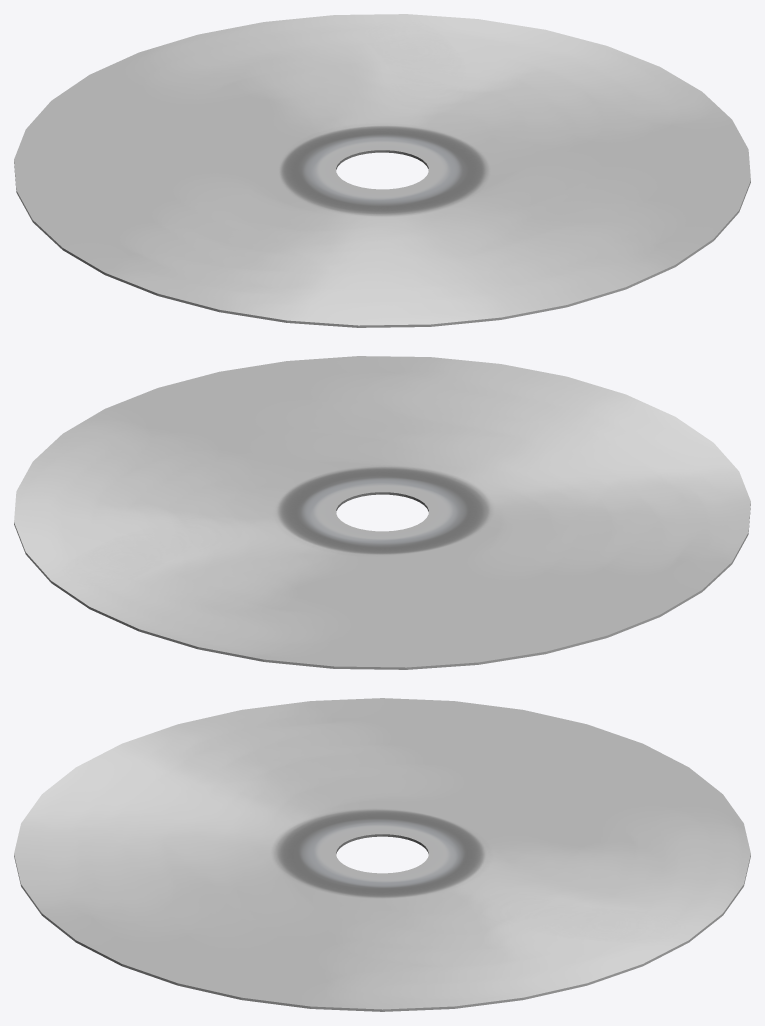
The model's file is music_sleep.fbx.
3 renders of one model, top to bottom at view 1: azimuth 30°, elevation 25°; view 2: azimuth 150°, elevation 25°; view 3: azimuth 270°, elevation 25°, orthographic.
Parts seen in each view (by area): view 1: Cube; view 2: Cube; view 3: Cube.
Part boxes in pixels (x1,y1,x2,y2): Cube: (14, 14, 750, 327); Cube: (14, 356, 750, 669); Cube: (14, 698, 750, 1011).
Size of the model in its own units: 200 by 0.7236 by 200.
1 material, 1 textured.
